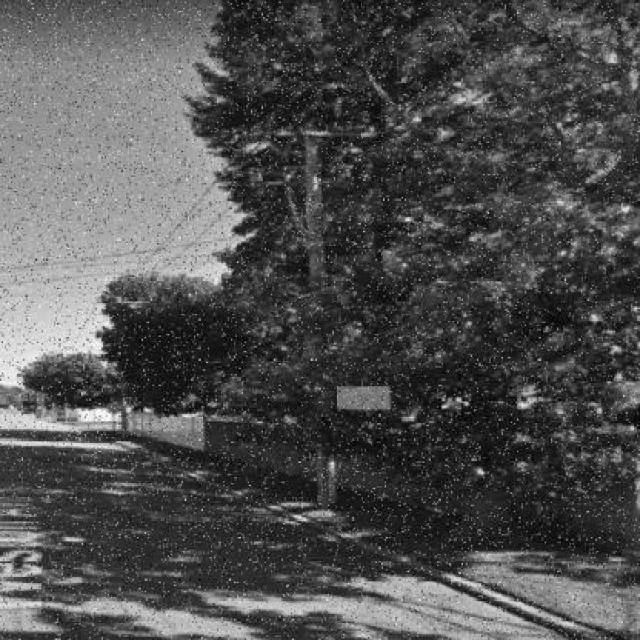pole: (241, 120, 387, 522)
